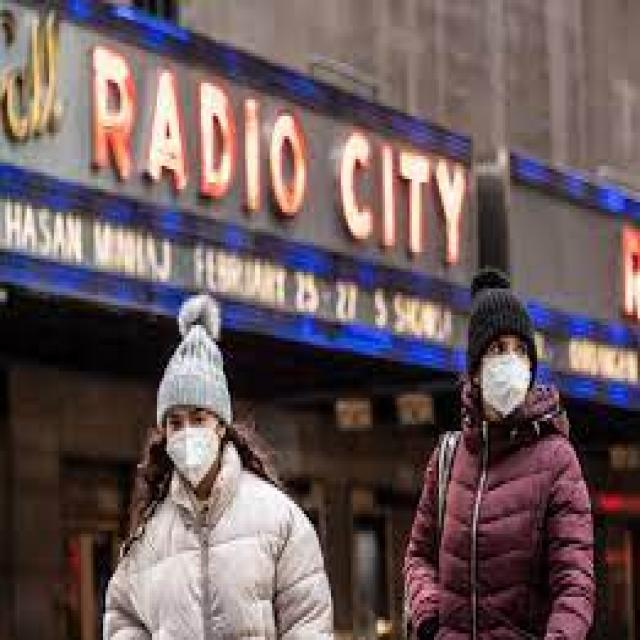Jacket: (404, 407, 596, 640), (91, 463, 335, 640)
